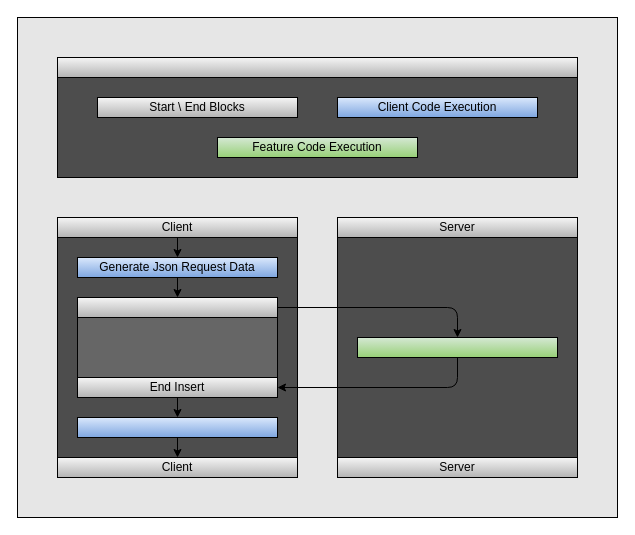
The diagram is 635 pixels wide and 535 high, and some of its shapes have lost their labels. The shapes that lost their labels are listed below. From the top down, each one's box as (x1, y1, x2, y2) in pixels, then its label:
(56, 56, 578, 78): Legend
(76, 296, 278, 318): Begin Insert
(356, 336, 558, 358): Insert
(76, 416, 278, 438): Manipulate Json Response Data
